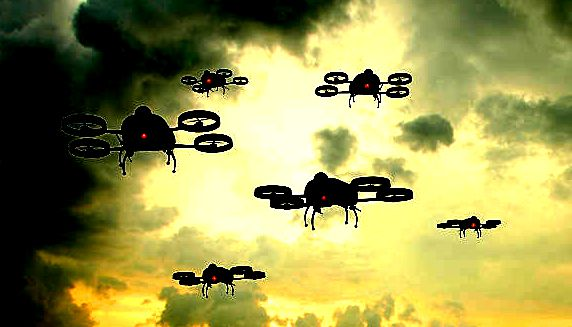Drone: (59, 104, 234, 177), (253, 170, 415, 229), (315, 68, 415, 110), (169, 258, 266, 298), (180, 65, 249, 96), (433, 211, 502, 239)
